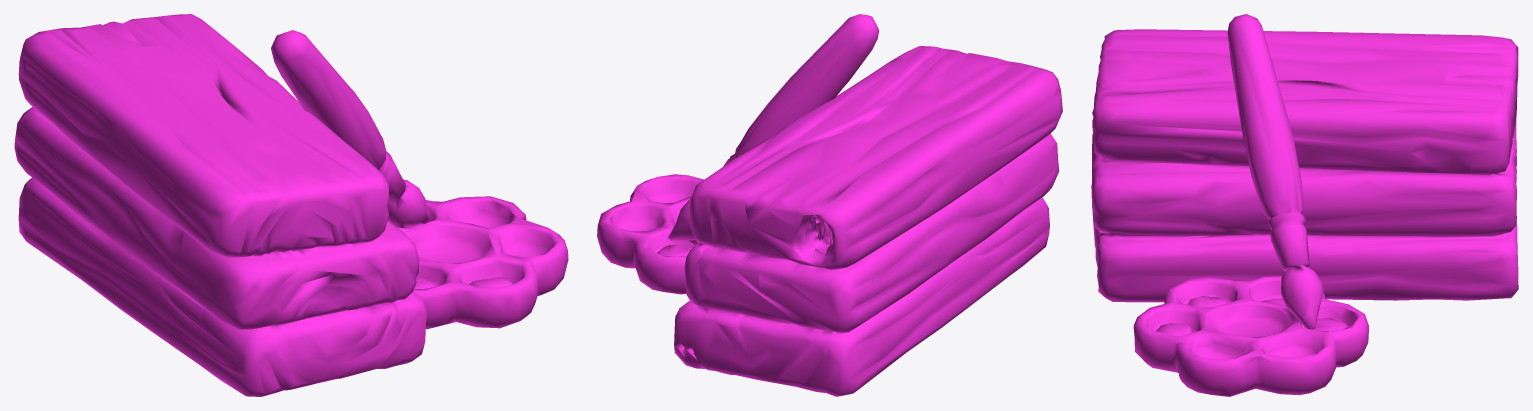
3 renders of one model, left to right at view 1: azimuth 30°, elevation 25°; view 2: azimuth 150°, elevation 25°; view 3: azimuth 270°, elevation 25°, orthographic. The views are drawn at different scales.
Visible parts, largest first — view 1: 材料; view 2: 材料; view 3: 材料.
Boxes of the visible parts, box(x1,y1,x2,y2) form: 材料: box(14, 14, 568, 396); 材料: box(597, 14, 1062, 396); 材料: box(1091, 14, 1518, 396).
Size of the model in its own units: 0.0476 by 0.0331 by 0.0472.
